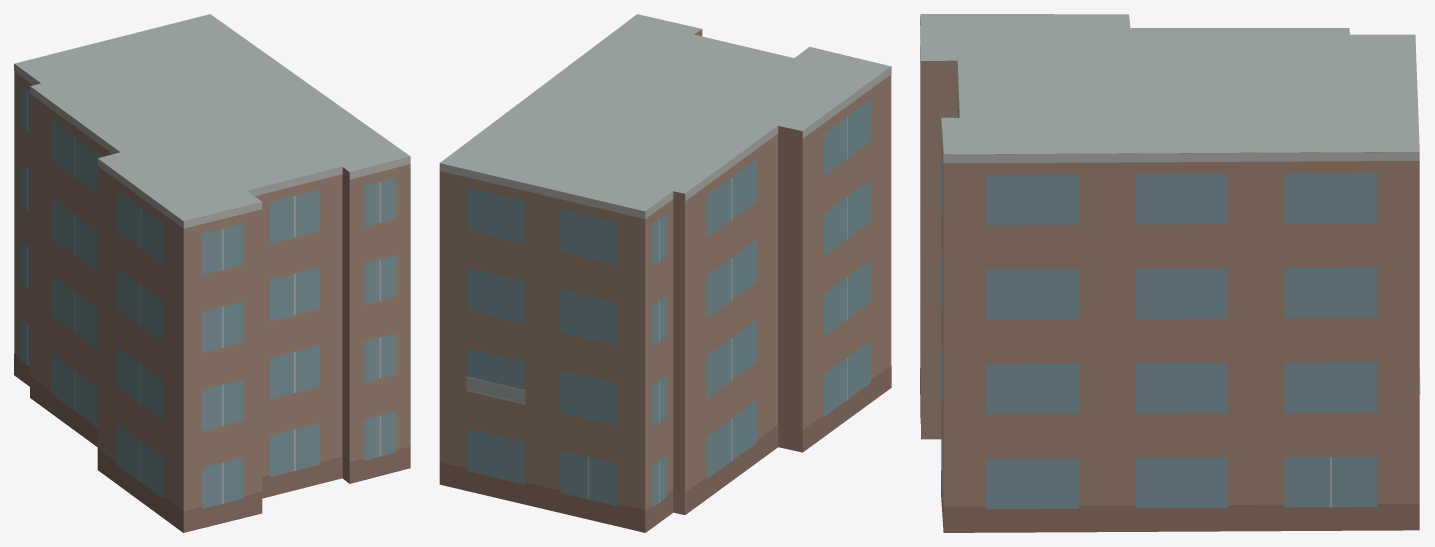
File: survey-upis-32807719.glb
The picture shows the model from 3 angles, left to right: view 1: azimuth 30°, elevation 25°; view 2: azimuth 150°, elevation 25°; view 3: azimuth 270°, elevation 25°; orthographic projection. The views are drawn at different scales.
Parts seen in each view (by area): view 1: survey-upis-32807719.tmp; view 2: survey-upis-32807719.tmp; view 3: survey-upis-32807719.tmp.
Boxes of the visible parts, <box> form: survey-upis-32807719.tmp: <box>14,14,410,532</box>; survey-upis-32807719.tmp: <box>439,14,891,532</box>; survey-upis-32807719.tmp: <box>920,14,1420,532</box>.
Bounding box in the file's own units: 8.12 × 10.2 × 12.23.
